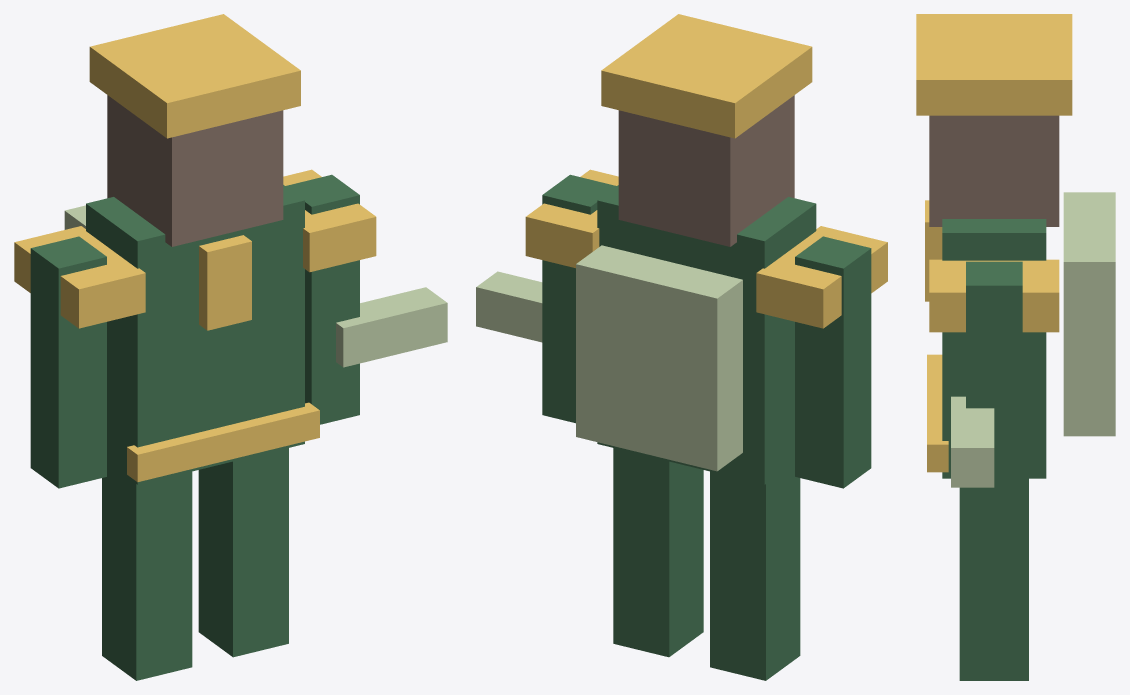
The model's file is 02_auren_stormhush_marshal_from_transformation.glb.
3 renders of one model, left to right at view 1: azimuth 30°, elevation 25°; view 2: azimuth 150°, elevation 25°; view 3: azimuth 270°, elevation 25°, orthographic.
Parts seen in each view (by area): view 1: Auren Stormhush, Marshal from Transformation; view 2: Auren Stormhush, Marshal from Transformation; view 3: Auren Stormhush, Marshal from Transformation.
Boxes of the visible parts, bbox=[...] form: Auren Stormhush, Marshal from Transformation: bbox=[14, 14, 447, 680]; Auren Stormhush, Marshal from Transformation: bbox=[476, 14, 887, 680]; Auren Stormhush, Marshal from Transformation: bbox=[916, 14, 1115, 680].
Size of the model in its own units: 0.9956 by 1.47 by 0.4468.
